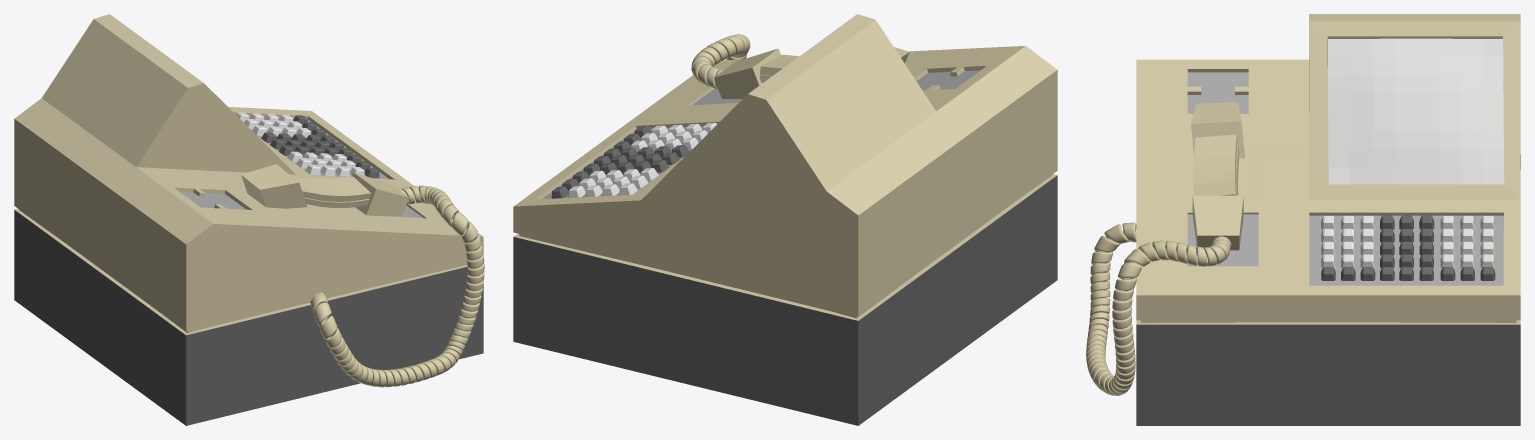
File: oldComputer.fbx
3 renders of one model, left to right at view 1: azimuth 30°, elevation 25°; view 2: azimuth 150°, elevation 25°; view 3: azimuth 270°, elevation 25°, orthographic. The views are drawn at different scales.
Parts seen in each view (by area): view 1: Cube, Plane, Phone, Phone3, Phone02; view 2: Cube, Phone02, Plane, Phone3; view 3: Cube, Plane, Phone3, Phone02, Phone.
Part boxes in pixels (box(x1,y1,x2,y2)): Cube: box(14, 14, 483, 425); Plane: box(310, 185, 484, 387); Phone: box(241, 164, 307, 208); Phone3: box(291, 176, 371, 207); Phone02: box(352, 172, 409, 215); Cube: box(513, 14, 1057, 425); Phone02: box(714, 48, 780, 98); Plane: box(691, 34, 750, 89); Phone3: box(759, 54, 798, 82); Cube: box(1136, 14, 1520, 425); Plane: box(1086, 222, 1231, 395); Phone3: box(1193, 134, 1239, 195); Phone02: box(1192, 195, 1243, 250); Phone: box(1191, 102, 1244, 158).
Size of the model in its own units: 204 by 172 by 231.
